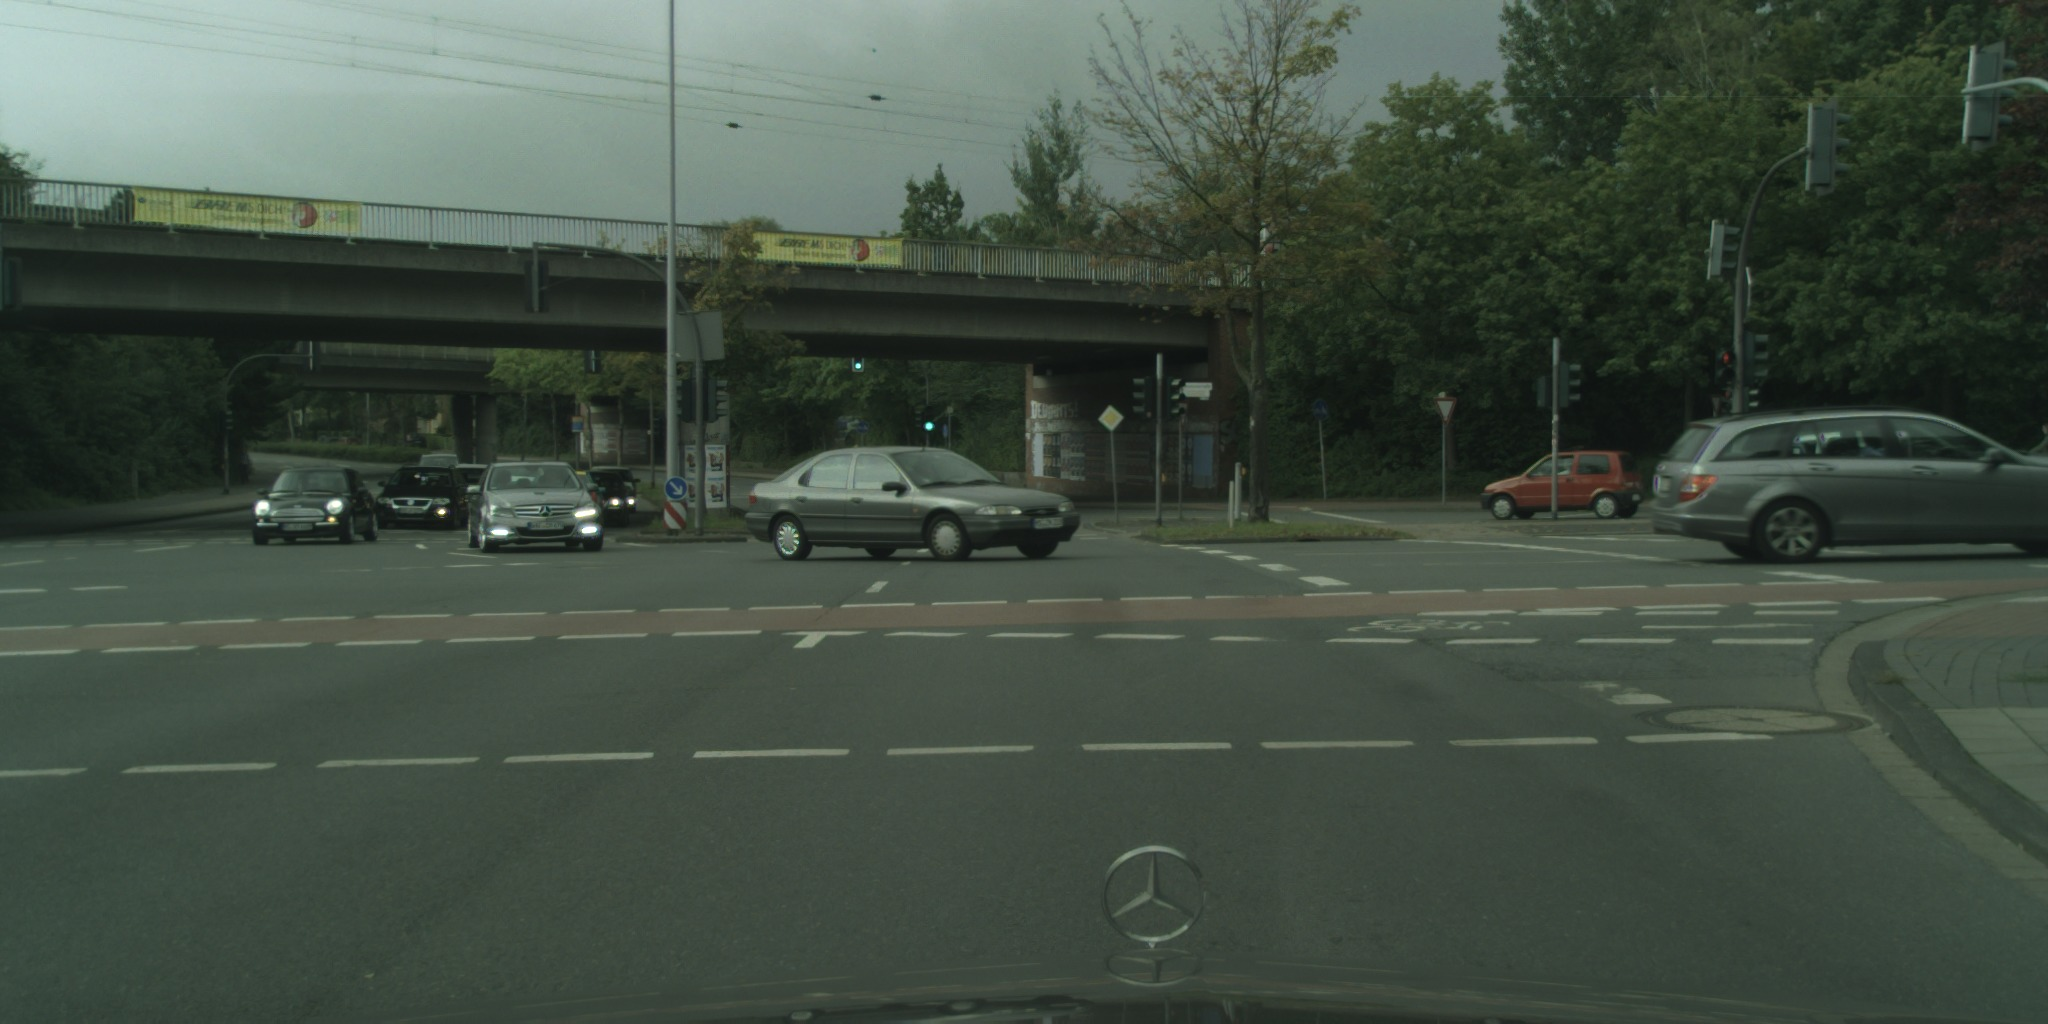car: (1651, 405, 2047, 564), (745, 445, 1080, 561), (462, 459, 604, 555), (1480, 450, 1645, 521), (250, 463, 381, 546), (375, 465, 470, 530), (565, 470, 632, 526), (574, 460, 640, 514), (559, 469, 606, 537), (441, 463, 498, 511)
person: (238, 447, 252, 484), (841, 429, 859, 450)
